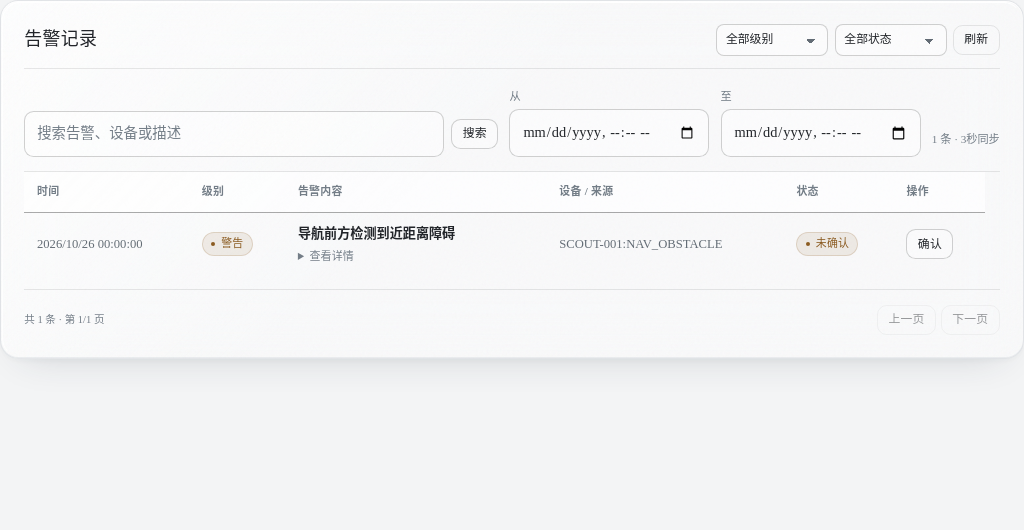
alarm processing › recovers when another monitor has already acknowledged
Click the button "确认" at point(930, 244), box 906,229 -> 953,259
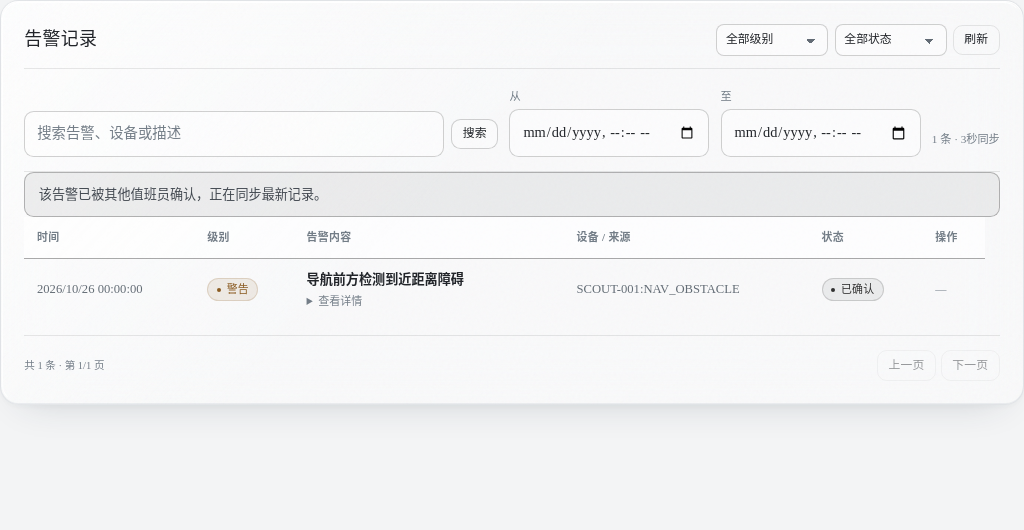
Click the heading "查看详情" at point(340, 301), box 318,295 -> 362,307
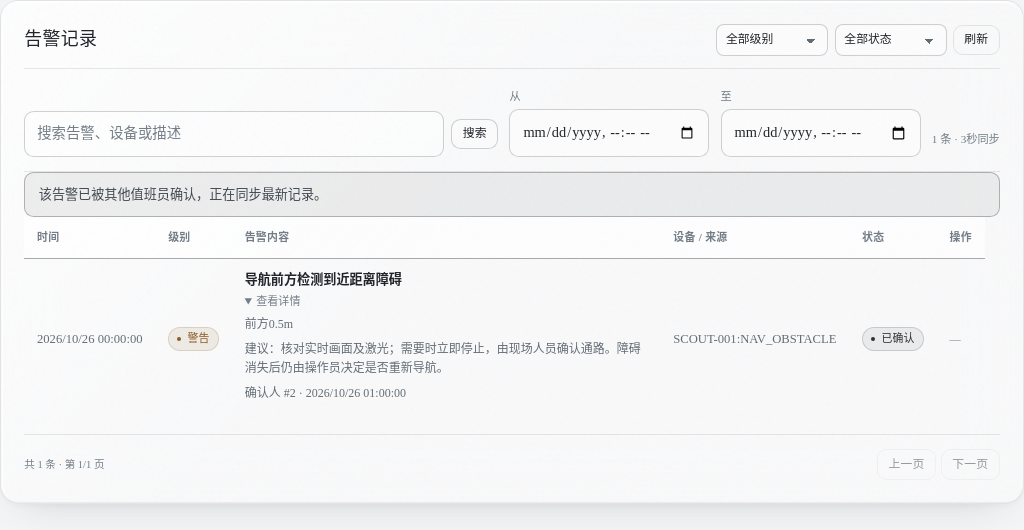
Expected: the message shows "其他值班员", 39,187 -> 327,202
Expected: the text "确认人 #2 · 2026/10/26 01:00:00" is shown, 245,386 -> 406,400
